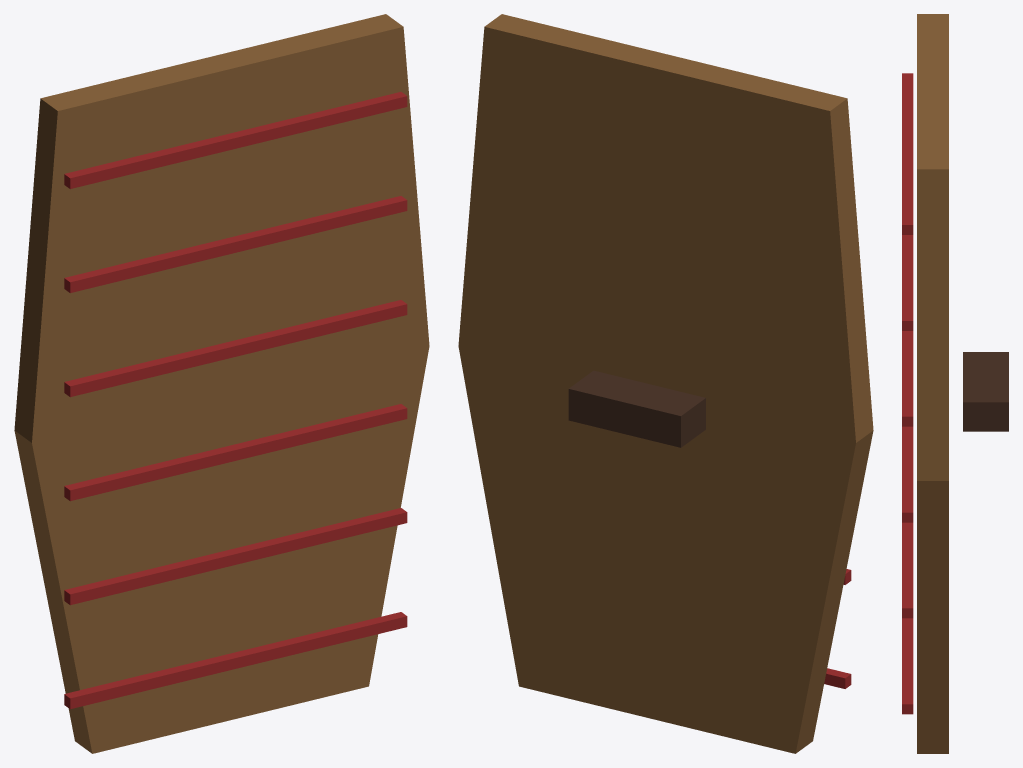
Rendered from iceni-shield.glb.
3 views of the same model, side by side, from view 1: azimuth 30°, elevation 25°; view 2: azimuth 150°, elevation 25°; view 3: azimuth 270°, elevation 25° (orthographic). The views are drawn at different scales.
Visible parts, largest first — view 1: Shield, Bands (×6); view 2: Shield, RearGrip; view 3: Shield, Bands (×6), RearGrip.
Boxes of the visible parts, x1,y1,x2,y2 form: Shield: (14, 14, 429, 753); Bands (×6): (64, 92, 407, 709); Shield: (458, 14, 873, 753); RearGrip: (568, 370, 705, 447); Shield: (917, 14, 948, 753); Bands (×6): (902, 73, 913, 714); RearGrip: (963, 352, 1008, 431).
Bounding box in the file's own units: 0.46 × 0.72 × 0.116.
